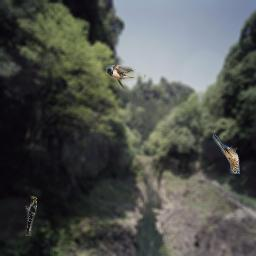Sparrow: (212, 134, 240, 174)
Swallow: (106, 65, 146, 89)
Woodpecker: (25, 196, 37, 236)
